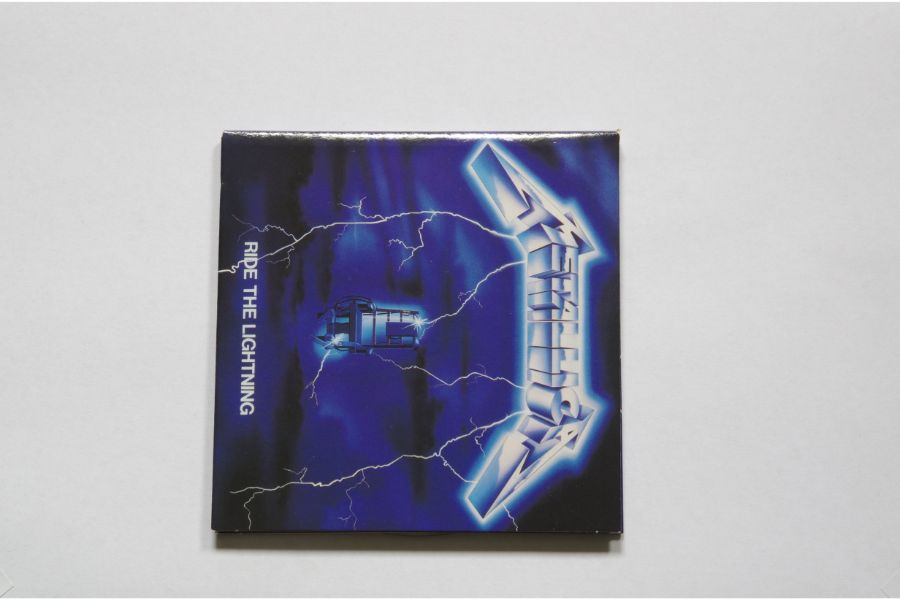album: (213, 130, 623, 535)
